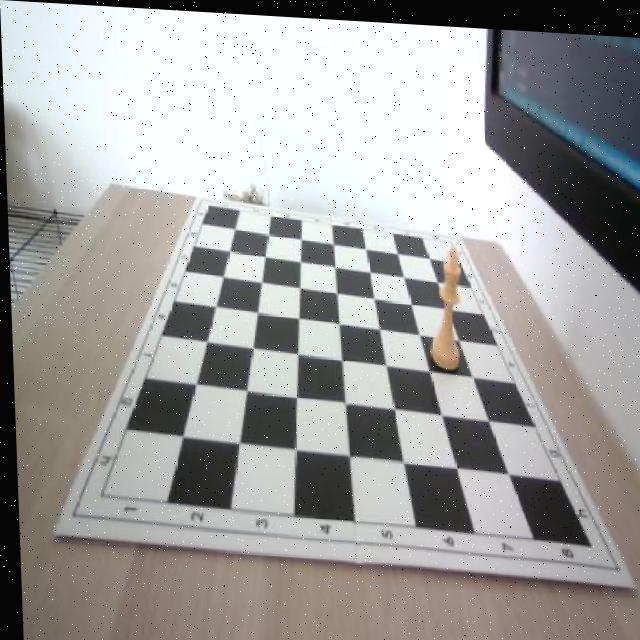white-bishop: (423, 239, 462, 365)
